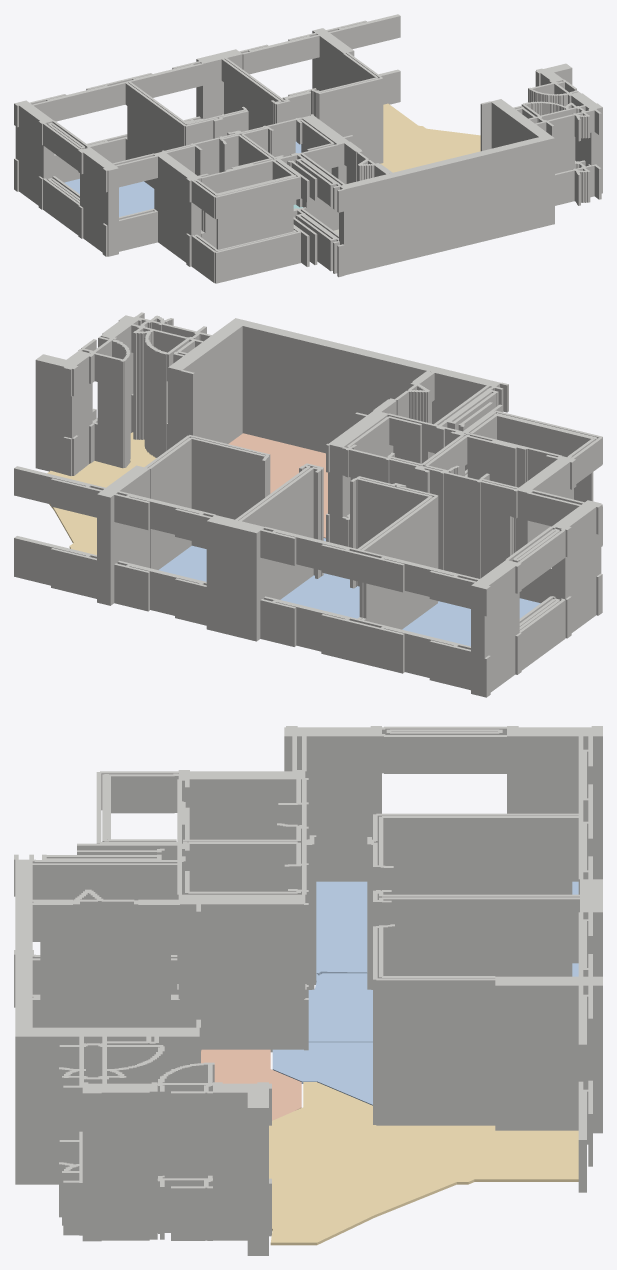
3 renders of one model, top to bottom at view 1: azimuth 30°, elevation 25°; view 2: azimuth 150°, elevation 25°; view 3: azimuth 270°, elevation 25°, orthographic. The views are drawn at different scales.
Parts seen in each view (by area): view 1: walls, room:living:6, room:bedroom:0; view 2: walls, room:living:6, room:kitchen:5, room:bedroom:7, room:bedroom:0, room:bedroom:2; view 3: walls, room:living:6, room:bedroom:0, room:bedroom:7, room:bedroom:2, room:kitchen:5.
Boxes of the visible parts, left/top/right/bottom form: walls: left=14, top=14, right=602, bottom=283; room:living:6: left=380, top=103, right=480, bottom=172; room:bedroom:0: left=64, top=179, right=154, bottom=216; walls: left=14, top=312, right=602, bottom=697; room:living:6: left=47, top=432, right=156, bottom=554; room:kitchen:5: left=228, top=433, right=327, bottom=538; room:bedroom:7: left=280, top=573, right=359, bottom=618; room:bedroom:0: left=402, top=598, right=540, bottom=646; room:bedroom:2: left=158, top=538, right=325, bottom=581; walls: left=14, top=726, right=602, bottom=1255; room:living:6: left=269, top=1082, right=578, bottom=1245; room:bedroom:0: left=316, top=881, right=578, bottom=975; room:bedroom:7: left=308, top=963, right=578, bottom=1042; room:bedroom:2: left=272, top=1042, right=372, bottom=1105; room:kitchen:5: left=201, top=1049, right=301, bottom=1120.
Bounding box in the file's own units: 15.51 × 2.8 × 10.1.
